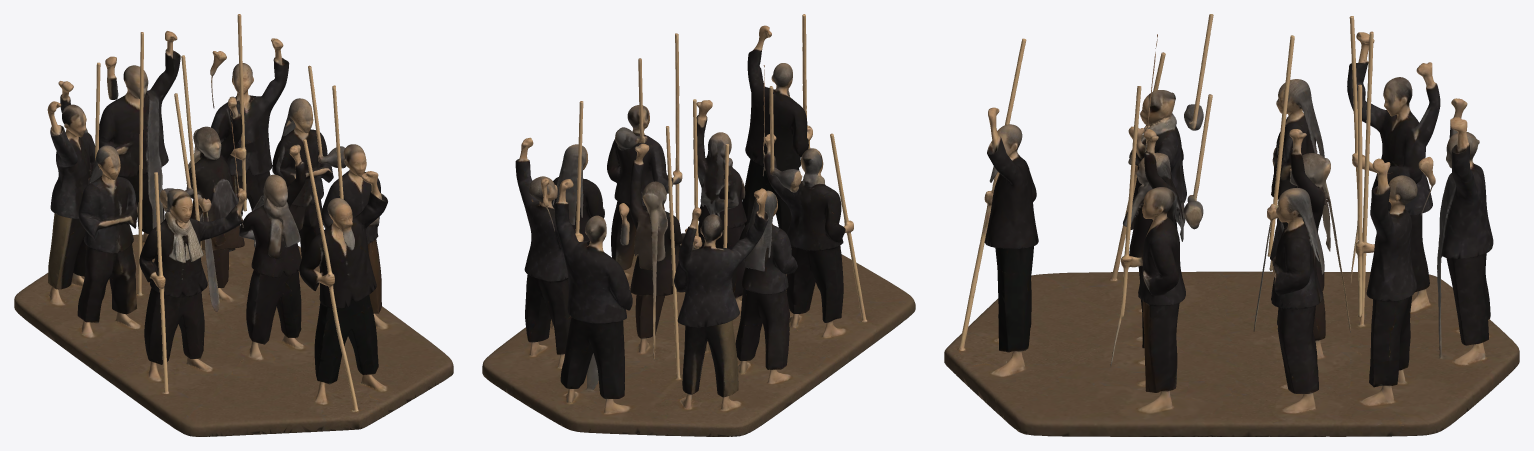
File: Nhân dân Nam Bộ anh dũng chiến đấu.glb
3 views of the same model, side by side, from view 1: azimuth 30°, elevation 25°; view 2: azimuth 150°, elevation 25°; view 3: azimuth 270°, elevation 25° (orthographic). The views are drawn at different scales.
Size of the model in its own units: 1.2 by 1.13 by 1.9.
Materials: 1 (1 with a texture image).
